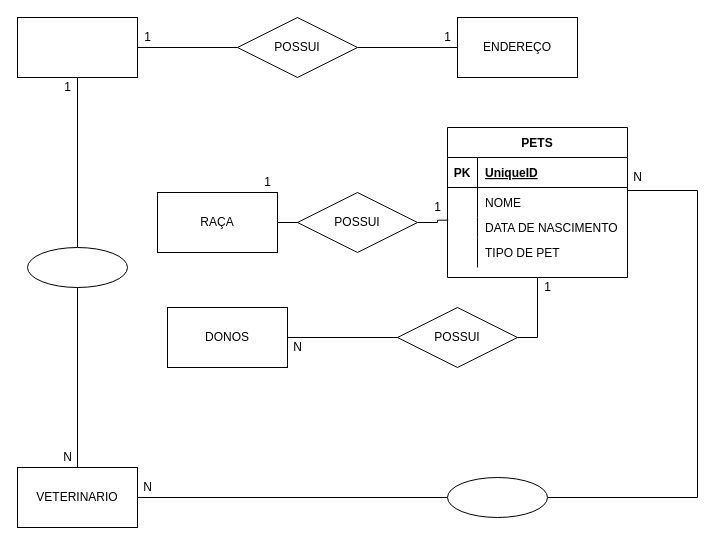
Some shapes in this 716 by 545 pixel diagram are drawn without their labels. The shapes that lost their labels are listed below. From the top down, each one's box as (x1, y1, x2, y2) in pixels, then its label:
(16, 16, 138, 78): CLINICA
(26, 246, 128, 288): CADASTRAR
(446, 476, 548, 518): ATENDER
